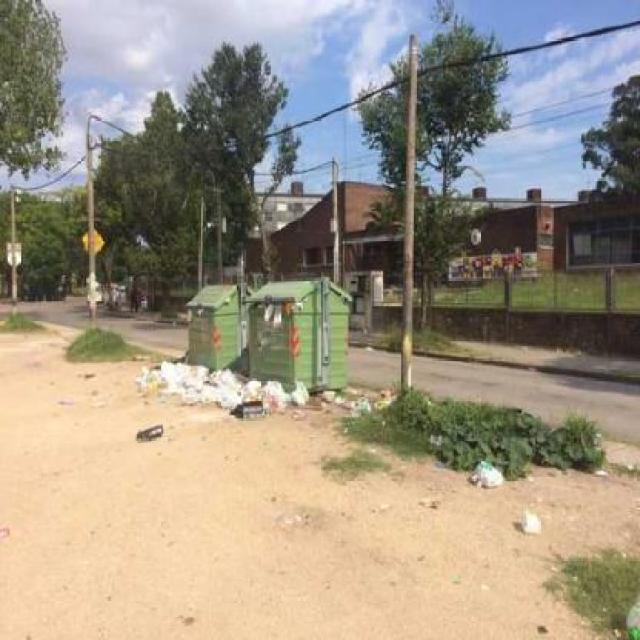garbage: (135, 343, 322, 442), (457, 434, 543, 541), (348, 380, 414, 420), (249, 302, 304, 332), (620, 595, 639, 638), (180, 302, 219, 322)
